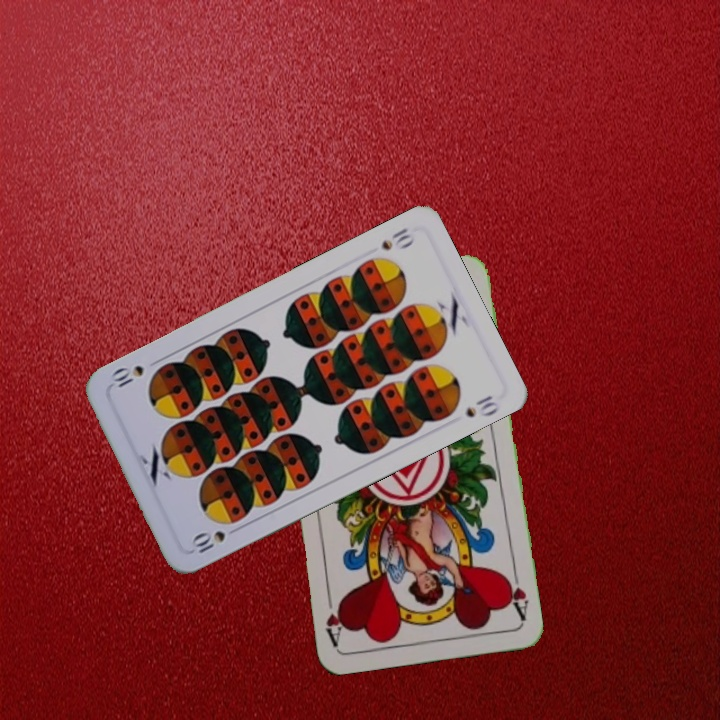HA: (501, 564, 531, 623)
S10: (187, 522, 243, 557), (376, 223, 418, 253)
